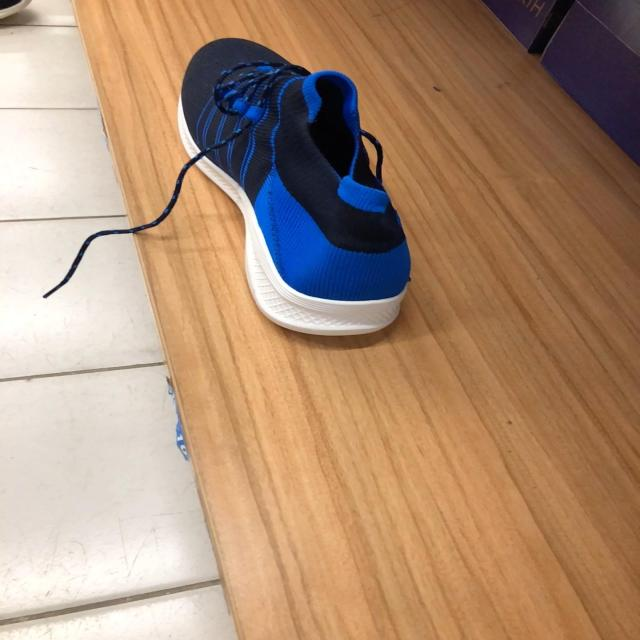shoe: (180, 38, 412, 339)
